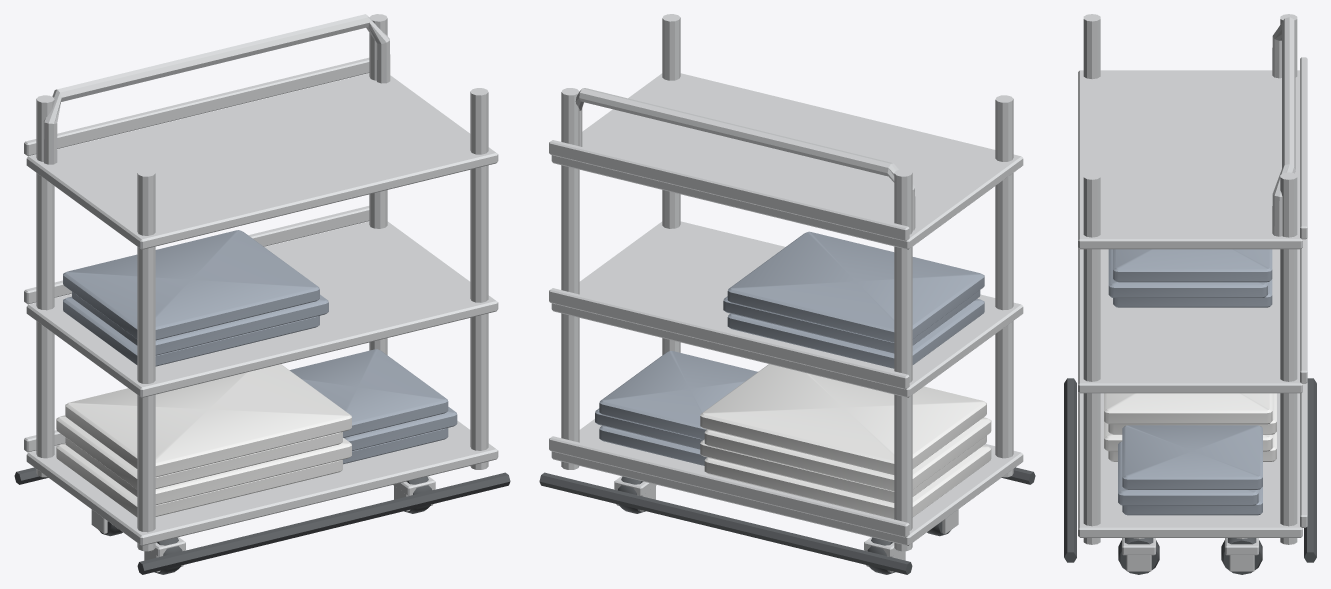
File: laundrette-and-cleaning-linen-shelf-trolley-6494054f__25540.glb
3 views of the same model, side by side, from view 1: azimuth 30°, elevation 25°; view 2: azimuth 150°, elevation 25°; view 3: azimuth 270°, elevation 25° (orthographic). The views are drawn at different scales.
Parts seen in each view (by area): view 1: linen-shelf-trolley; view 2: linen-shelf-trolley; view 3: linen-shelf-trolley.
Part boxes in pixels (bbox=[...]): linen-shelf-trolley: bbox=[14, 14, 510, 574]; linen-shelf-trolley: bbox=[539, 14, 1035, 574]; linen-shelf-trolley: bbox=[1064, 14, 1316, 574].
Size of the model in its own units: 0.88 by 0.9949 by 0.54.
